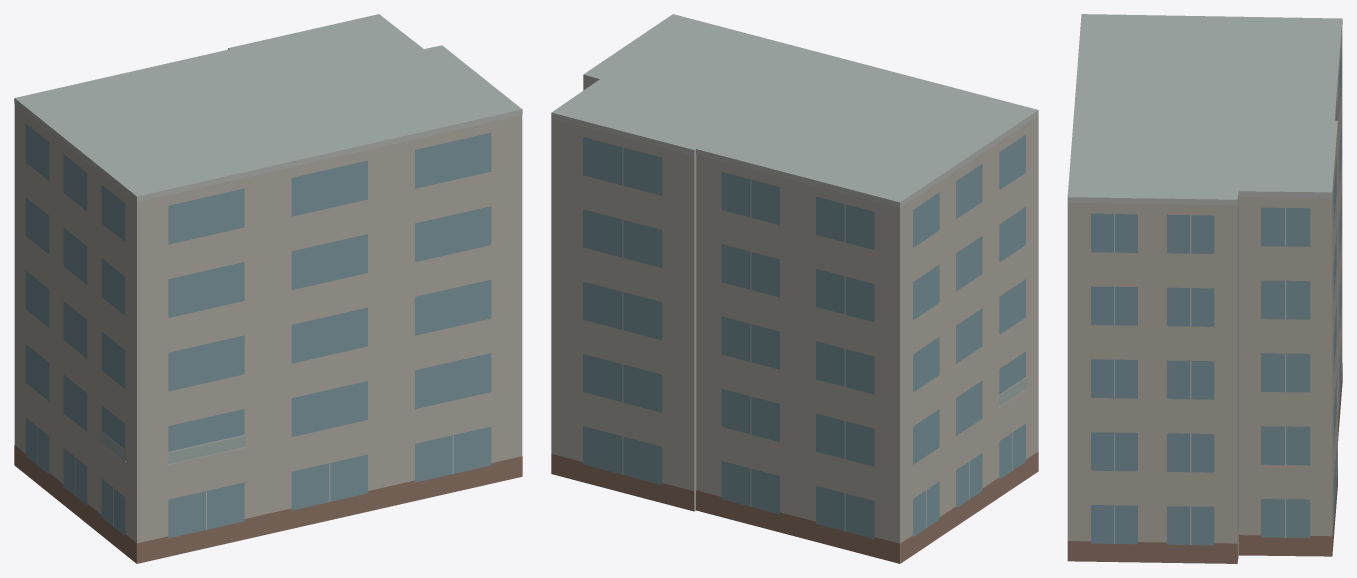
The model's file is survey-upis-32653446.glb.
3 views of the same model, side by side, from view 1: azimuth 30°, elevation 25°; view 2: azimuth 150°, elevation 25°; view 3: azimuth 270°, elevation 25° (orthographic).
Parts seen in each view (by area): view 1: survey-upis-32653446.tmp; view 2: survey-upis-32653446.tmp; view 3: survey-upis-32653446.tmp.
Part boxes in pixels (x1=…): survey-upis-32653446.tmp: x1=14, y1=14, x2=522, y2=563; survey-upis-32653446.tmp: x1=551, y1=14, x2=1038, y2=563; survey-upis-32653446.tmp: x1=1067, y1=14, x2=1342, y2=563.
Bounding box in the file's own units: 17.35 × 15.85 × 10.85.
